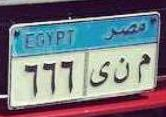6: (24, 62, 39, 97), (60, 60, 75, 92), (43, 61, 56, 95)
meem: (134, 53, 154, 83)
noon: (112, 54, 132, 84)
yaa: (89, 59, 111, 88)
